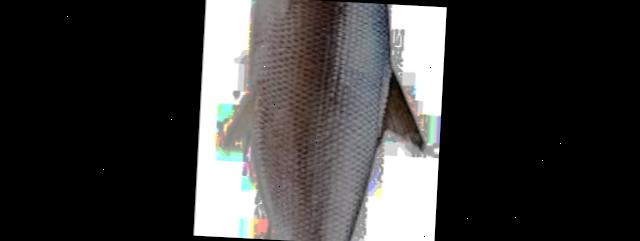Healthy Fish: (228, 0, 424, 241)
